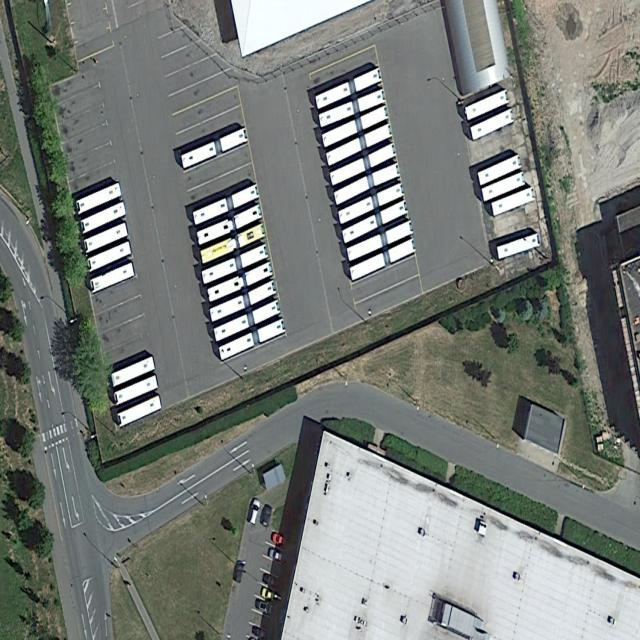large-vehicle: (349, 236, 416, 284), (209, 278, 277, 325), (329, 141, 397, 188), (346, 217, 414, 264), (333, 160, 401, 207), (192, 182, 260, 228), (322, 103, 389, 149), (326, 122, 393, 168), (218, 317, 286, 362), (199, 220, 267, 265), (200, 242, 269, 286), (180, 126, 249, 170), (315, 66, 382, 111), (207, 259, 274, 304), (341, 199, 408, 244), (338, 181, 405, 226), (213, 299, 281, 343), (196, 203, 263, 247), (318, 87, 387, 129), (469, 105, 515, 142), (80, 200, 127, 235), (75, 181, 122, 216), (117, 393, 162, 428), (113, 374, 159, 408), (86, 240, 132, 274), (90, 261, 135, 295), (491, 185, 536, 219), (477, 153, 522, 187), (464, 89, 509, 123), (110, 355, 156, 388), (480, 170, 525, 203), (83, 222, 128, 254), (496, 230, 540, 261)
small-vehicle: (248, 497, 261, 527), (271, 530, 289, 548), (255, 598, 273, 616), (262, 572, 281, 589), (260, 586, 276, 603), (234, 559, 245, 583), (261, 504, 272, 527), (269, 547, 284, 563)
